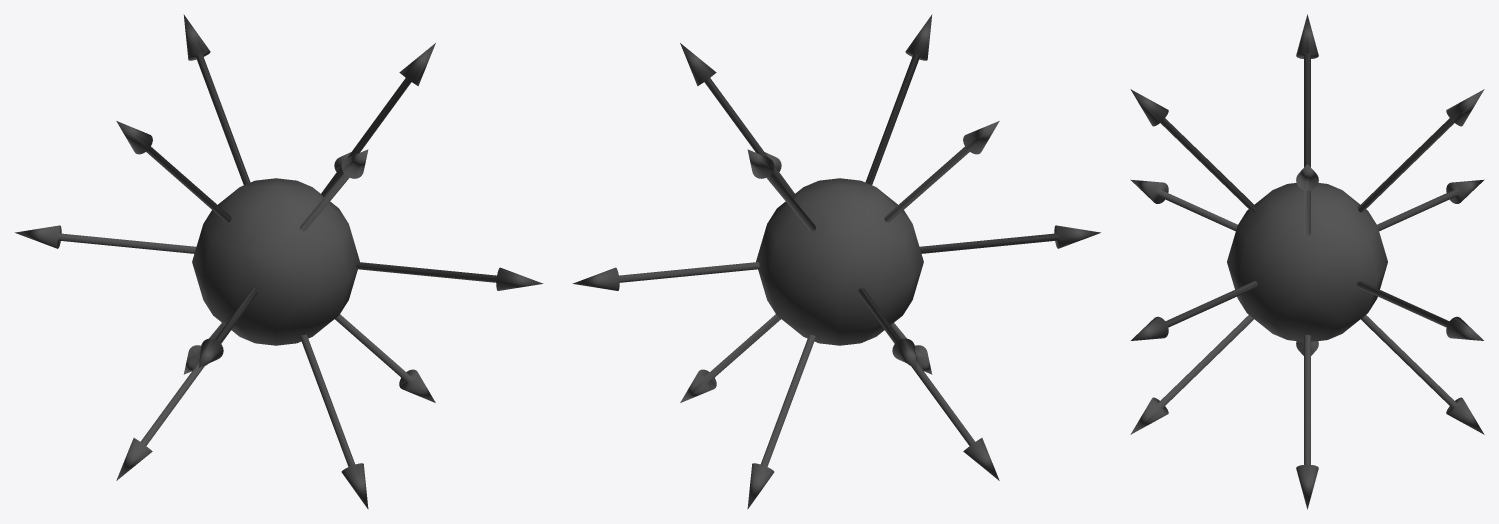
The model's file is pointlight.fbx.
The picture shows the model from 3 angles, left to right: view 1: azimuth 30°, elevation 25°; view 2: azimuth 150°, elevation 25°; view 3: azimuth 270°, elevation 25°; orthographic projection. The views are drawn at different scales.
Parts seen in each view (by area): view 1: default; view 2: default; view 3: default.
Boxes of the visible parts, box(x1,y1,x2,y2) form: default: box(15, 14, 543, 509); default: box(572, 14, 1100, 509); default: box(1130, 14, 1484, 509).
Size of the model in its own units: 2.37 by 2.37 by 2.2.
Materials: 1 (1 with a texture image).
